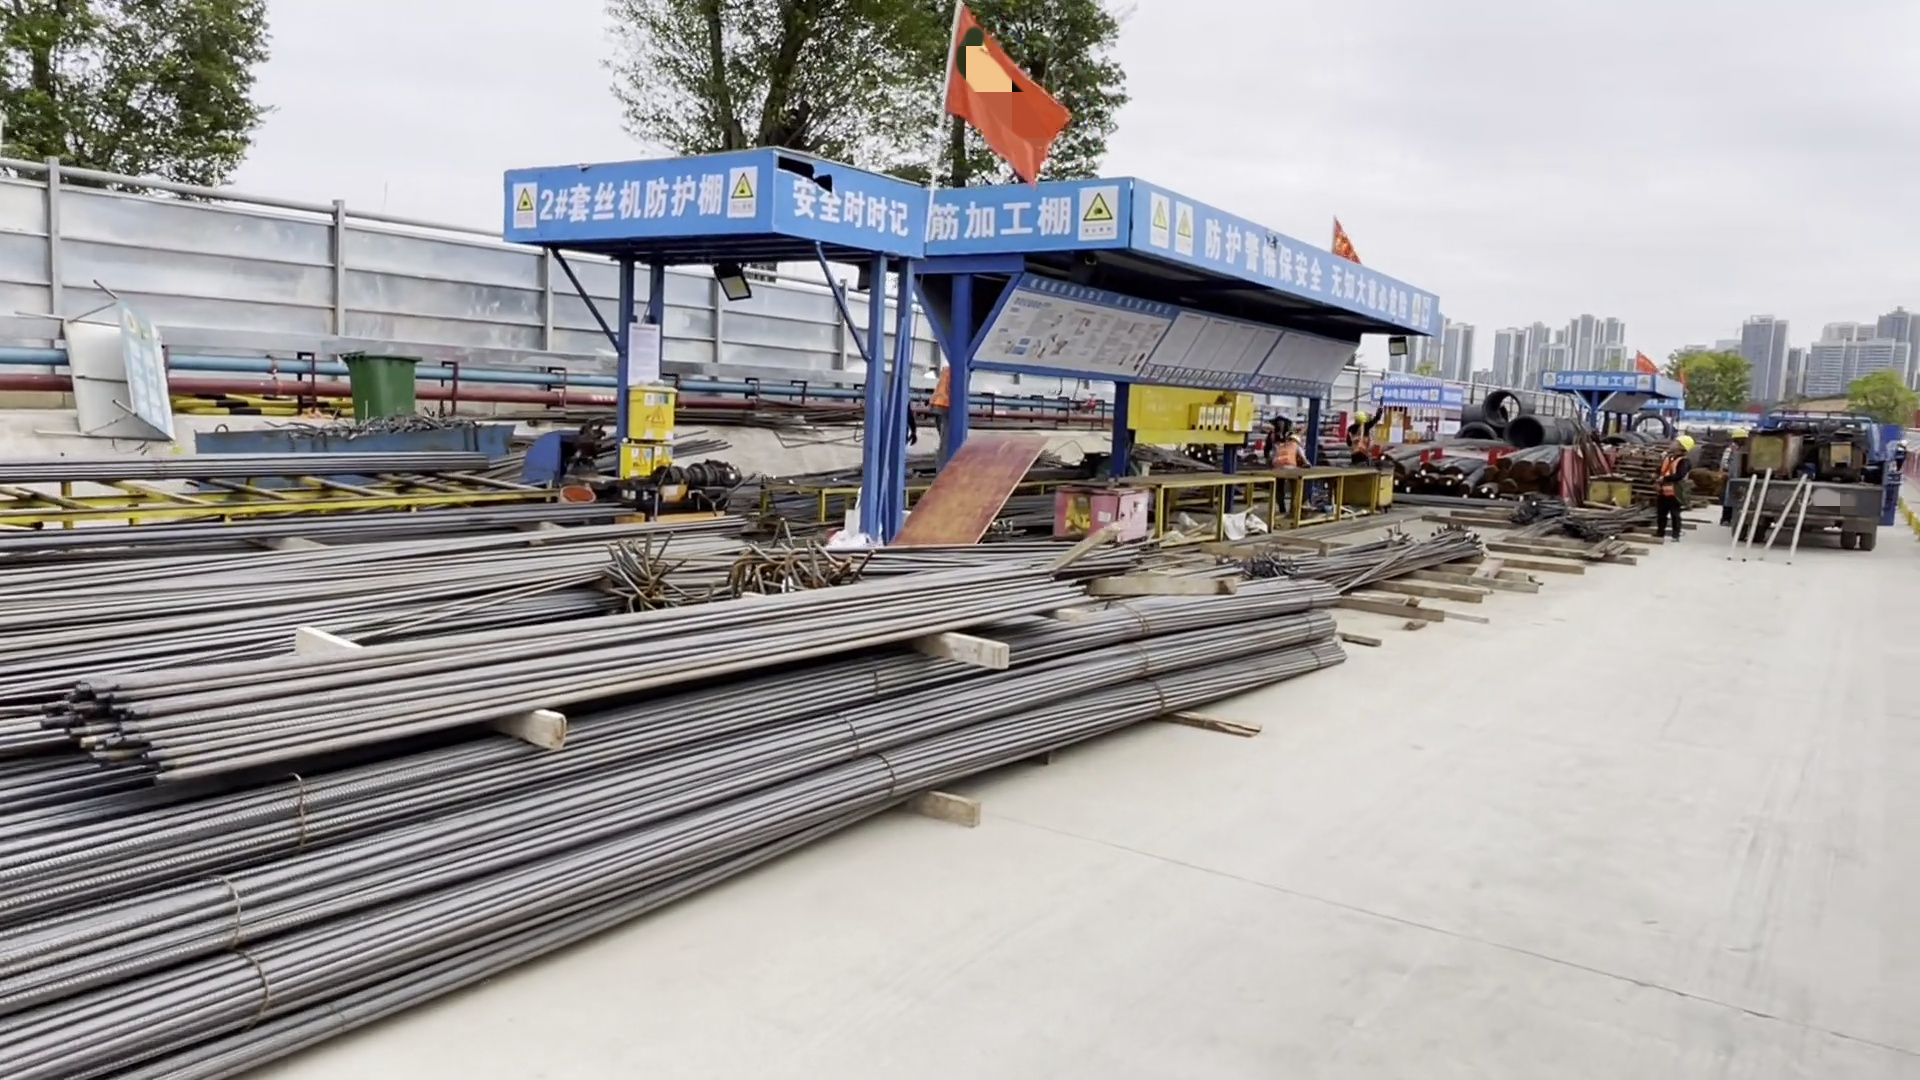board: (887, 434, 1048, 544)
ebox: (1191, 389, 1258, 432), (1830, 440, 1852, 470)
fence: (141, 176, 597, 352)
helmet: (1676, 434, 1696, 450), (1352, 409, 1369, 422), (1731, 427, 1747, 441), (1288, 429, 1305, 441)
hopper: (185, 417, 525, 471), (623, 389, 687, 483)
person: (1652, 427, 1699, 546), (1719, 420, 1747, 516), (1272, 423, 1302, 500), (929, 356, 954, 440), (1349, 403, 1374, 470), (1888, 433, 1913, 477)
rebar: (1, 548, 1346, 1080)
slogan: (1142, 201, 1426, 341), (516, 166, 767, 236), (927, 183, 1134, 253), (788, 168, 914, 244), (1551, 372, 1652, 389), (1377, 387, 1439, 405)
vest: (1663, 457, 1691, 497), (934, 365, 951, 416), (1275, 443, 1299, 472), (1351, 425, 1370, 454), (1721, 446, 1736, 469), (1895, 446, 1906, 463)
